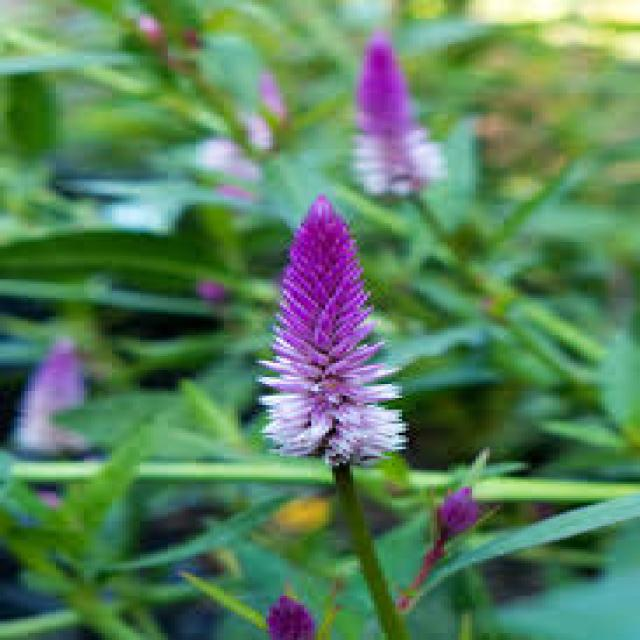Celosia-Argentea: (255, 191, 409, 479), (350, 28, 448, 202)
